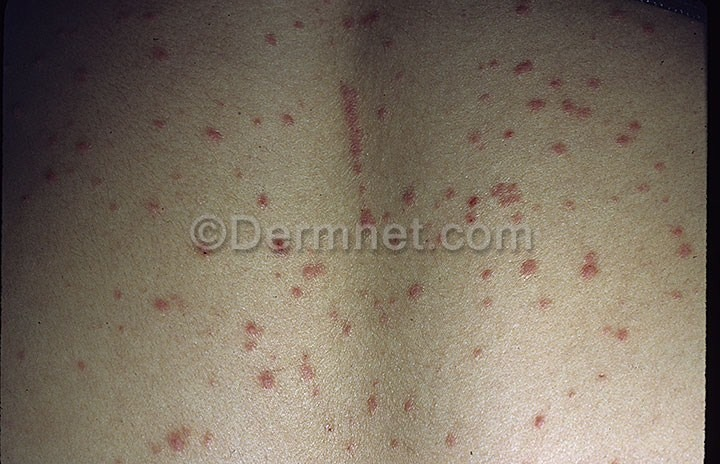Psoriasis: (437, 156, 611, 318), (464, 46, 666, 153), (304, 64, 401, 227), (282, 254, 441, 343), (214, 301, 337, 415), (625, 161, 703, 273), (105, 282, 207, 323), (127, 418, 222, 461)
